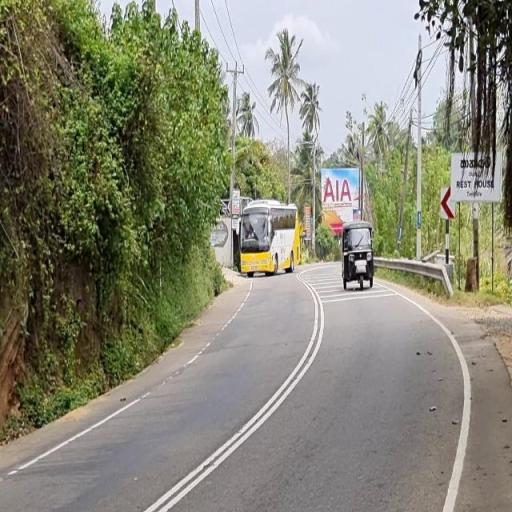double_white_line: (140, 282, 326, 510)
